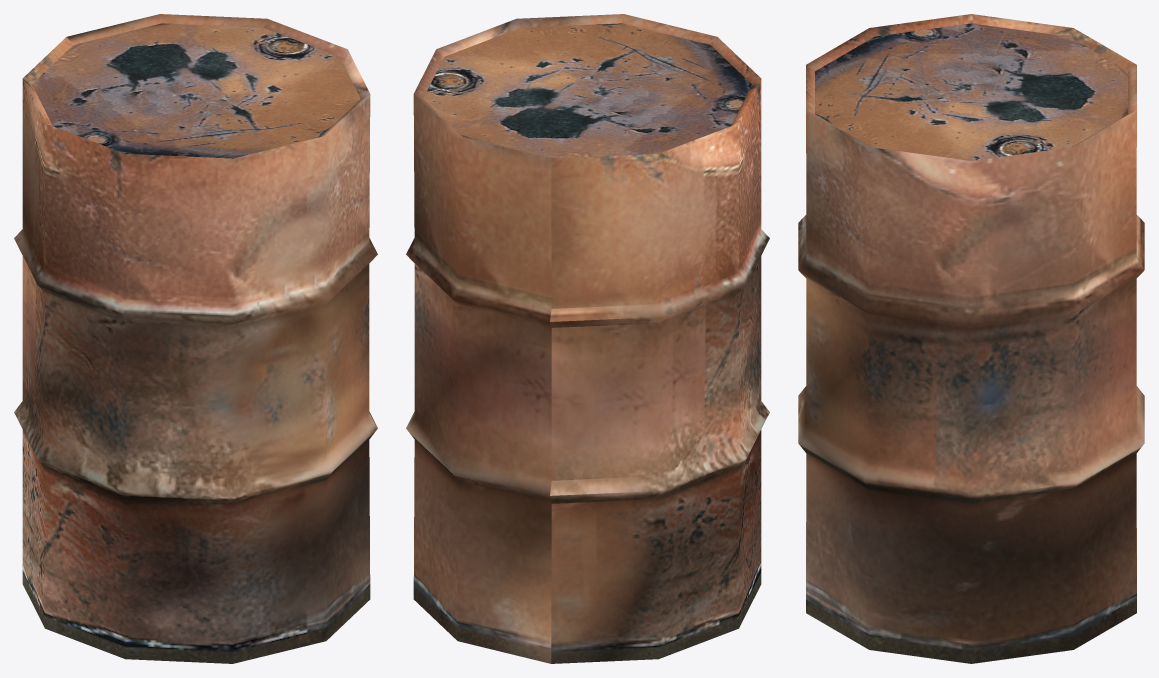
Rendered from rusted_barrel.fbx.
3 renders of one model, left to right at view 1: azimuth 30°, elevation 25°; view 2: azimuth 150°, elevation 25°; view 3: azimuth 270°, elevation 25°, orthographic.
Visible parts, largest first — view 1: U3DMesh; view 2: U3DMesh; view 3: U3DMesh.
Boxes of the visible parts, box(x1,y1,x2,y2) form: U3DMesh: box(14, 14, 377, 663); U3DMesh: box(406, 14, 769, 663); U3DMesh: box(798, 14, 1144, 663).
Bounding box in the file's own units: 67.17 × 102 × 63.88.
